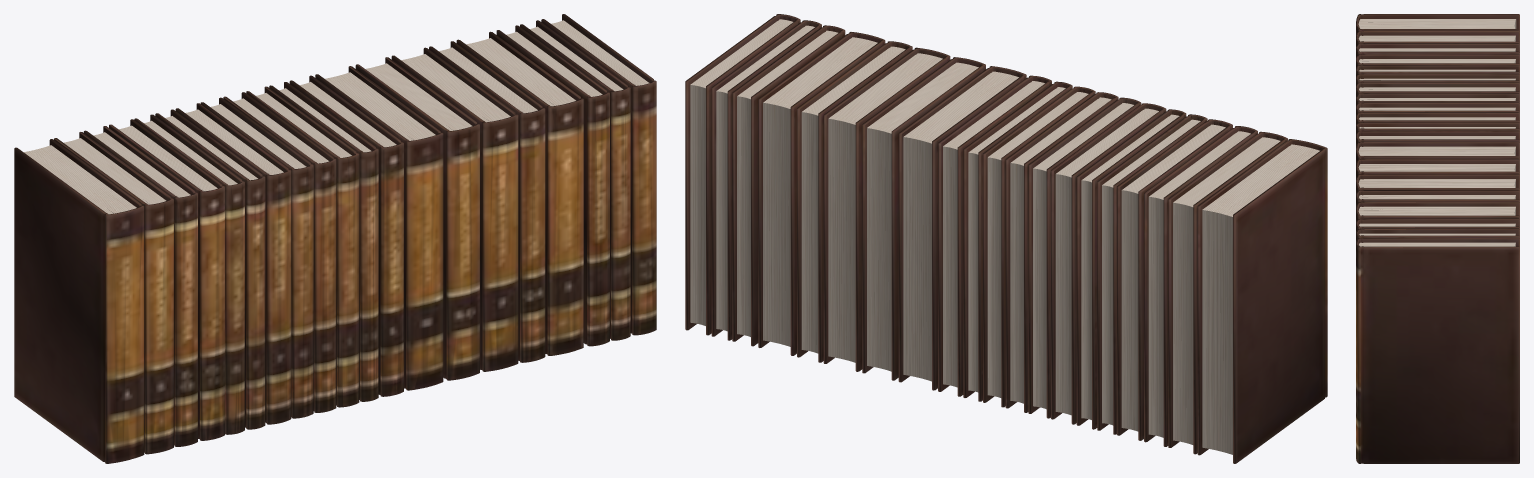
File: book_encyclopedia_set_01.glb
3 renders of one model, left to right at view 1: azimuth 30°, elevation 25°; view 2: azimuth 150°, elevation 25°; view 3: azimuth 270°, elevation 25°, orthographic. The views are drawn at different scales.
Parts seen in each view (by area): view 1: book_encyclopedia_set_01_book01, book_encyclopedia_set_01_book13, book_encyclopedia_set_01_book15, book_encyclopedia_set_01_book17, book_encyclopedia_set_01_book14, book_encyclopedia_set_01_book02, book_encyclopedia_set_01_book16, book_encyclopedia_set_01_book04, book_encyclopedia_set_01_book18, book_encyclopedia_set_01_book20, book_encyclopedia_set_01_book07, book_encyclopedia_set_01_book12 (+8 smaller); view 2: book_encyclopedia_set_01_book01, book_encyclopedia_set_01_book13, book_encyclopedia_set_01_book15, book_encyclopedia_set_01_book17, book_encyclopedia_set_01_book14, book_encyclopedia_set_01_book02, book_encyclopedia_set_01_book04, book_encyclopedia_set_01_book16, book_encyclopedia_set_01_book18, book_encyclopedia_set_01_book20, book_encyclopedia_set_01_book07, book_encyclopedia_set_01_book12 (+8 smaller); view 3: book_encyclopedia_set_01_book20, book_encyclopedia_set_01_book13, book_encyclopedia_set_01_book01, book_encyclopedia_set_01_book17, book_encyclopedia_set_01_book15, book_encyclopedia_set_01_book14, book_encyclopedia_set_01_book02, book_encyclopedia_set_01_book16, book_encyclopedia_set_01_book03, book_encyclopedia_set_01_book04, book_encyclopedia_set_01_book12, book_encyclopedia_set_01_book07 (+8 smaller).
Part boxes in pixels (<box>): book_encyclopedia_set_01_book01: <box>14,139,144,463</box>; book_encyclopedia_set_01_book13: <box>315,66,443,390</box>; book_encyclopedia_set_01_book15: <box>391,47,518,371</box>; book_encyclopedia_set_01_book17: <box>456,31,583,355</box>; book_encyclopedia_set_01_book14: <box>355,57,479,380</box>; book_encyclopedia_set_01_book02: <box>54,132,173,454</box>; book_encyclopedia_set_01_book16: <box>429,41,545,362</box>; book_encyclopedia_set_01_book04: <box>109,119,224,440</box>; book_encyclopedia_set_01_book18: <box>496,25,609,346</box>; book_encyclopedia_set_01_book20: <box>541,14,656,335</box>; book_encyclopedia_set_01_book07: <box>175,103,291,424</box>; book_encyclopedia_set_01_book12: <box>289,75,403,396</box>; book_encyclopedia_set_01_book01: <box>1197,139,1327,463</box>; book_encyclopedia_set_01_book13: <box>898,66,1026,390</box>; book_encyclopedia_set_01_book15: <box>823,47,950,371</box>; book_encyclopedia_set_01_book17: <box>758,32,885,355</box>; book_encyclopedia_set_01_book14: <box>862,57,985,380</box>; book_encyclopedia_set_01_book02: <box>1168,131,1287,454</box>; book_encyclopedia_set_01_book04: <box>1117,119,1232,440</box>; book_encyclopedia_set_01_book16: <box>797,41,912,362</box>; book_encyclopedia_set_01_book18: <box>732,25,845,346</box>; book_encyclopedia_set_01_book20: <box>685,14,800,335</box>; book_encyclopedia_set_01_book07: <box>1051,103,1166,424</box>; book_encyclopedia_set_01_book12: <box>938,75,1051,396</box>; book_encyclopedia_set_01_book20: <box>1356,238,1519,463</box>; book_encyclopedia_set_01_book13: <box>1356,142,1519,166</box>; book_encyclopedia_set_01_book01: <box>1356,14,1519,35</box>; book_encyclopedia_set_01_book17: <box>1356,202,1519,222</box>; book_encyclopedia_set_01_book15: <box>1356,174,1519,194</box>; book_encyclopedia_set_01_book14: <box>1356,159,1519,181</box>; book_encyclopedia_set_01_book02: <box>1356,30,1519,47</box>; book_encyclopedia_set_01_book16: <box>1356,190,1519,208</box>; book_encyclopedia_set_01_book03: <box>1356,43,1519,59</box>; book_encyclopedia_set_01_book04: <box>1356,54,1519,77</box>; book_encyclopedia_set_01_book12: <box>1356,131,1519,149</box>; book_encyclopedia_set_01_book07: <box>1356,82,1519,95</box>.
Bounding box in the file's own units: 0.5513 × 0.2374 × 0.1631.
Materials: 2 (2 with a texture image).
